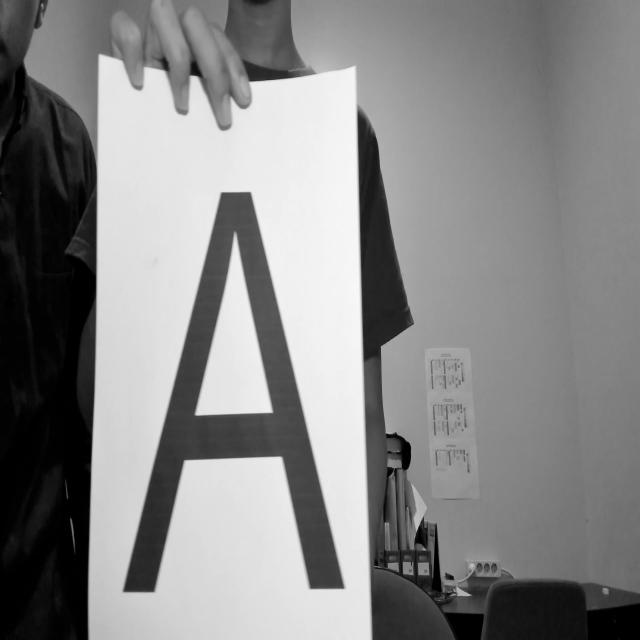a: (111, 164, 358, 631)
